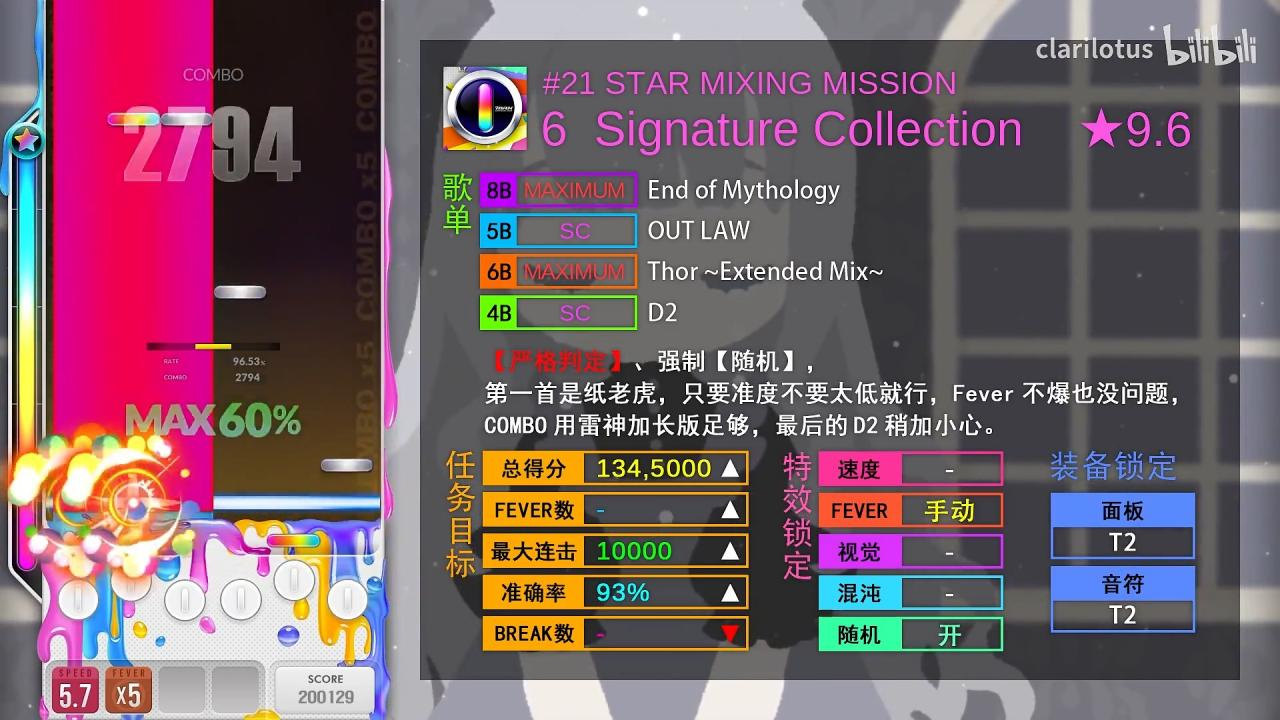note: (107, 112, 160, 127), (161, 112, 213, 126), (215, 285, 266, 299), (321, 459, 374, 472)
